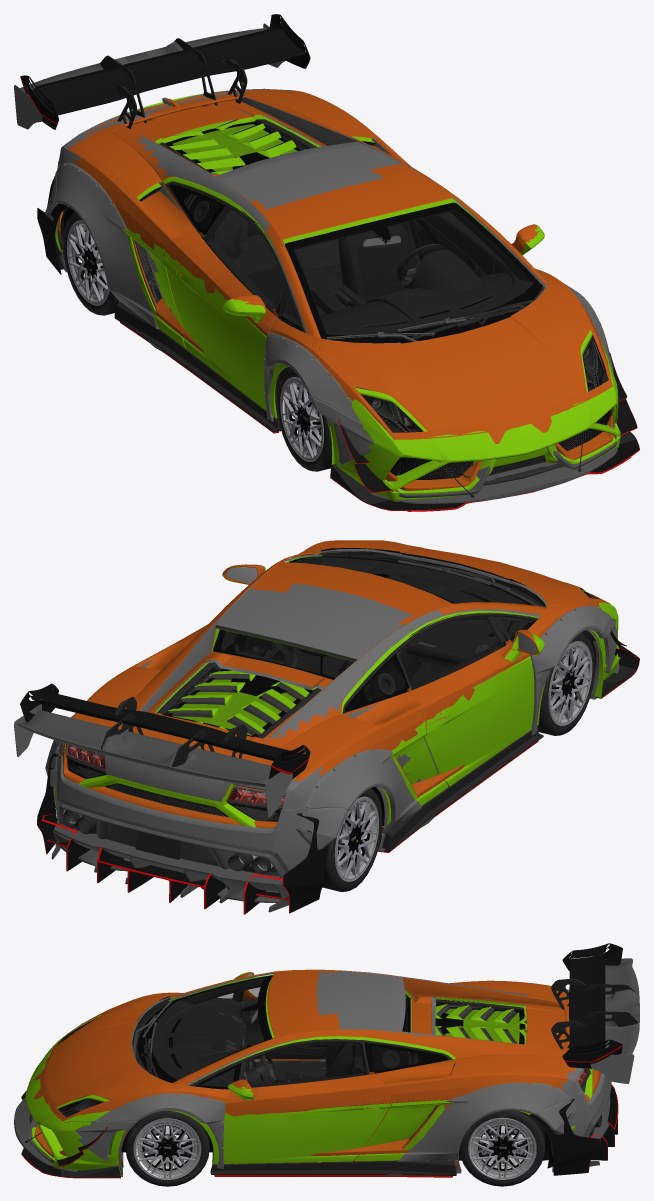
File: gallardomain.glb
3 renders of one model, top to bottom at view 1: azimuth 30°, elevation 25°; view 2: azimuth 150°, elevation 25°; view 3: azimuth 270°, elevation 25°, orthographic. The views are drawn at different scales.
Visible parts, largest first — view 1: stockbody, body1, body2, gallardo:LOD_A_GLASS_FRONT_mm_windows_gallardo:Vehicle_Exter, gallardo_int:LOD_A_INT_INTERIOR_mm_mat01, gallardo:LOD_A_GLASS_FRONT_mm_windows, gallardo:LOD_A_GLASS_RIGHT_mm_windows_gallardo:Vehicle_Exter, gallardo_int:LOD_A_INT_INTERIOR_mm_mat04, wheel_set_stock, gallardo_int:LOD_A_INT_INTERIOR_mm_mat06, rim_set3, gallardo:LOD_A_FRONTBUMPER_mm_misc_gallardo:Vehicle_Exterior (+12 smaller); view 2: body2, body1, stockbody, gallardo_int:LOD_A_INT_INTERIOR_mm_mat01, gallardo:LOD_A_GLASS_RIGHT_mm_windows_gallardo:Vehicle_Exter, wheel_set_stock, gallardo:LOD_A_GLASS_FRONT_mm_windows_gallardo:Vehicle_Exter, rim_set3, gallardo:LOD_A_GLASS_REAR_mm_windows_gallardo:Vehicle_Exteri, gallardo:LOD_A_BOOT_mm_windows_gallardo:Vehicle_Exterior_mm_, gallardo:LOD_A_REARBUMPER_mm_misc_gallardo:Vehicle_Exterior_, gallardo:LOD_A_BONNETCAM_BODY_mm_misc_gallardo:Vehicle_Exter (+12 smaller); view 3: stockbody, body1, body2, gallardo_int:LOD_A_INT_INTERIOR_mm_mat01, gallardo:LOD_A_GLASS_FRONT_mm_windows_gallardo:Vehicle_Exter, gallardo:LOD_A_GLASS_LEFT_mm_windows_gallardo:Vehicle_Exteri, rim_set3, wheel_set_stock, LOD_A_TYRE_mm_tyre1, gallardo:LOD_A_TYRE_mm_tyre_gallardo:Vehicle_Exterior_mm_tyr, gallardo:LOD_A_GLASS_FRONT_mm_windows, gallardo_int:LOD_A_INT_INTERIOR_mm_mat04 (+14 smaller).
Boxes of the visible parts, box(x1,y1,x2,y2) form: stockbody: box(58, 89, 613, 490); body1: box(20, 14, 639, 511); body2: box(14, 23, 617, 503); gallardo:LOD_A_GLASS_FRONT_mm_windows_gallardo:Vehicle_Exter: box(294, 209, 532, 335); gallardo_int:LOD_A_INT_INTERIOR_mm_mat01: box(205, 207, 532, 335); gallardo:LOD_A_GLASS_FRONT_mm_windows: box(284, 202, 542, 343); gallardo:LOD_A_GLASS_RIGHT_mm_windows_gallardo:Vehicle_Exter: box(205, 207, 283, 311); gallardo_int:LOD_A_INT_INTERIOR_mm_mat04: box(184, 193, 531, 315); wheel_set_stock: box(67, 220, 322, 462); gallardo_int:LOD_A_INT_INTERIOR_mm_mat06: box(248, 245, 406, 317); rim_set3: box(66, 221, 323, 461); gallardo:LOD_A_FRONTBUMPER_mm_misc_gallardo:Vehicle_Exterior: box(390, 409, 610, 485); body2: box(14, 549, 619, 912); body1: box(20, 553, 639, 914); stockbody: box(62, 540, 610, 828); gallardo_int:LOD_A_INT_INTERIOR_mm_mat01: box(233, 557, 528, 697); gallardo:LOD_A_GLASS_RIGHT_mm_windows_gallardo:Vehicle_Exter: box(398, 616, 504, 688); wheel_set_stock: box(334, 643, 591, 882); gallardo:LOD_A_GLASS_FRONT_mm_windows_gallardo:Vehicle_Exter: box(296, 557, 526, 604); rim_set3: box(335, 641, 592, 881); gallardo:LOD_A_GLASS_REAR_mm_windows_gallardo:Vehicle_Exteri: box(221, 631, 353, 677); gallardo:LOD_A_BOOT_mm_windows_gallardo:Vehicle_Exterior_mm_: box(172, 678, 296, 735); gallardo:LOD_A_REARBUMPER_mm_misc_gallardo:Vehicle_Exterior_: box(61, 755, 281, 876); gallardo:LOD_A_BONNETCAM_BODY_mm_misc_gallardo:Vehicle_Exter: box(321, 551, 545, 606); stockbody: box(34, 969, 600, 1168); body1: box(21, 943, 622, 1178); body2: box(14, 958, 639, 1176); gallardo_int:LOD_A_INT_INTERIOR_mm_mat01: box(152, 998, 367, 1086); gallardo:LOD_A_GLASS_FRONT_mm_windows_gallardo:Vehicle_Exter: box(152, 978, 263, 1078); gallardo:LOD_A_GLASS_LEFT_mm_windows_gallardo:Vehicle_Exteri: box(241, 1041, 366, 1087); rim_set3: box(133, 1118, 536, 1179); wheel_set_stock: box(134, 1117, 534, 1180); LOD_A_TYRE_mm_tyre1: box(459, 1110, 545, 1186); gallardo:LOD_A_TYRE_mm_tyre_gallardo:Vehicle_Exterior_mm_tyr: box(125, 1111, 209, 1186); gallardo:LOD_A_GLASS_FRONT_mm_windows: box(137, 975, 272, 1082); gallardo_int:LOD_A_INT_INTERIOR_mm_mat04: box(181, 979, 419, 1075).
Bounding box in the file's own units: 12.72 × 7.17 × 27.65.
Materials: 42 (20 with a texture image).
